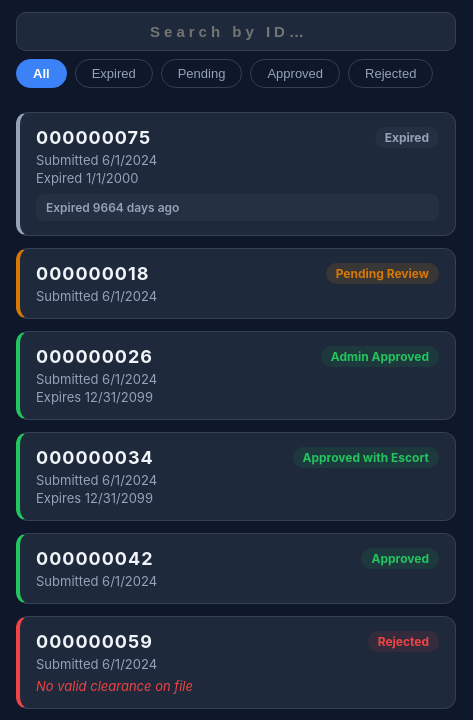
MySubmissions — filter chips › Expired filter shows only expired entries
Expected: the text "000000018" is shown, [36,263,150,284]
Click the button "Expired" at [114, 74], box [75,59,153,88]
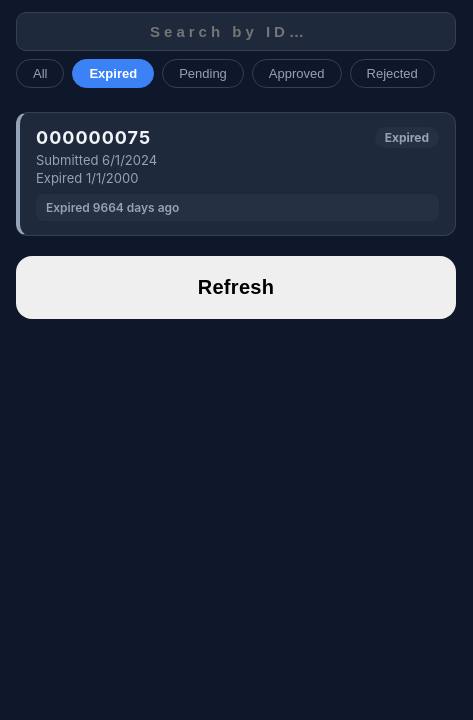
Expected: the text "000000075" is shown, [36,127,151,148]
Now the text "000000018" is gone
Now the text "000000026" is gone
